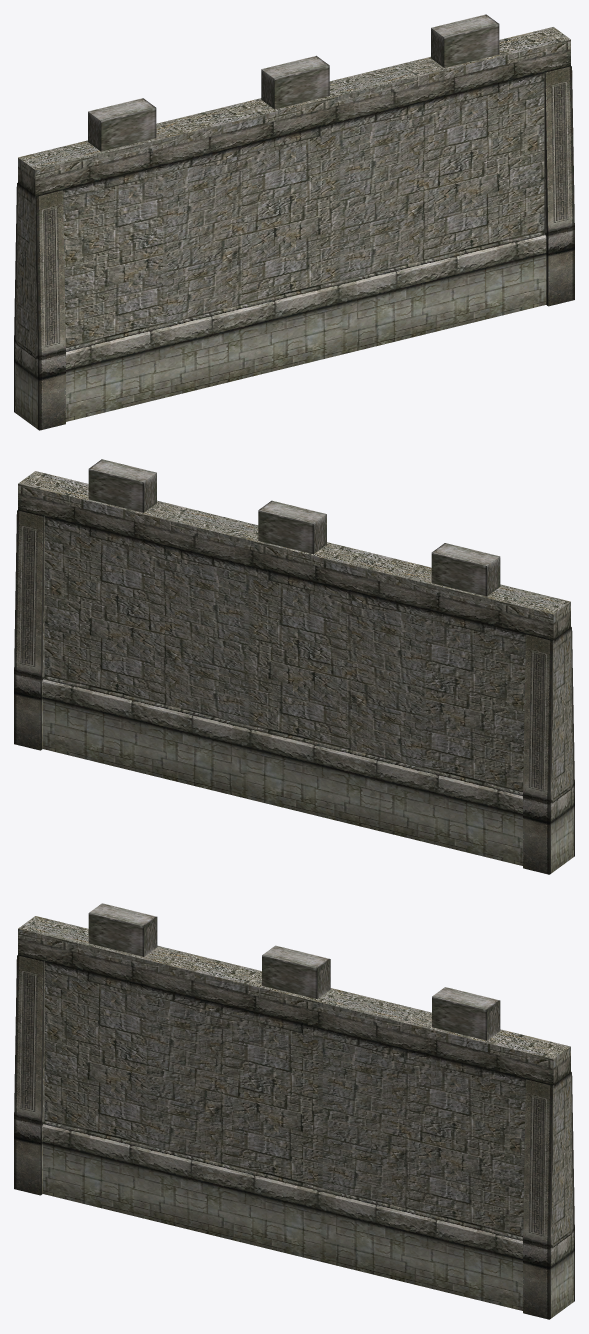
The model's file is ob-bigdam-02.glb.
3 views of the same model, one above another, from view 1: azimuth 30°, elevation 25°; view 2: azimuth 150°, elevation 25°; view 3: azimuth 330°, elevation 25° (orthographic).
Parts seen in each view (by area): view 1: ob-bigdam-01; view 2: ob-bigdam-01; view 3: ob-bigdam-01.
Part boxes in pixels (<box>): ob-bigdam-01: <box>14,14,574,430</box>; ob-bigdam-01: <box>14,459,574,874</box>; ob-bigdam-01: <box>14,903,574,1319</box>.
Size of the model in its own units: 10.01 by 5.14 by 0.8224.
1 material, 1 textured.
